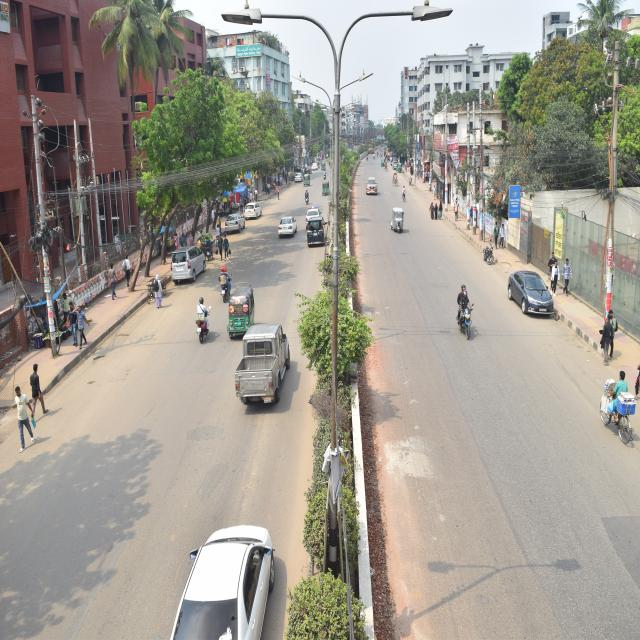car: (498, 262, 567, 340), (362, 171, 382, 203), (280, 213, 296, 244), (225, 214, 245, 232), (244, 203, 264, 221), (294, 172, 302, 182)
microbus: (170, 250, 210, 278)
motorbike: (452, 283, 482, 356), (215, 266, 232, 301), (196, 299, 210, 341), (305, 187, 313, 207)
pickup-van: (234, 322, 294, 410)
